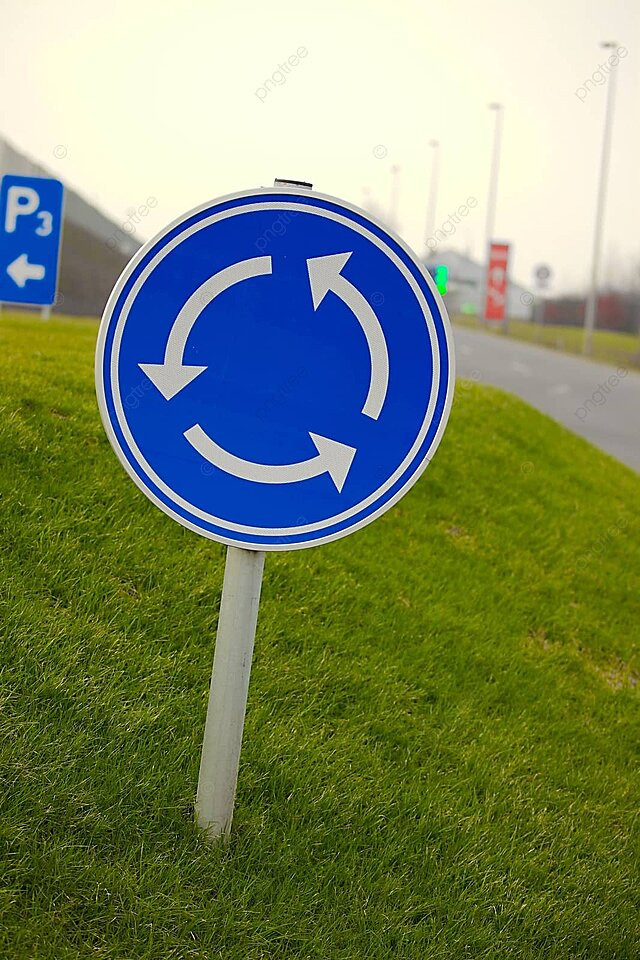roundabout: (93, 162, 462, 562)
